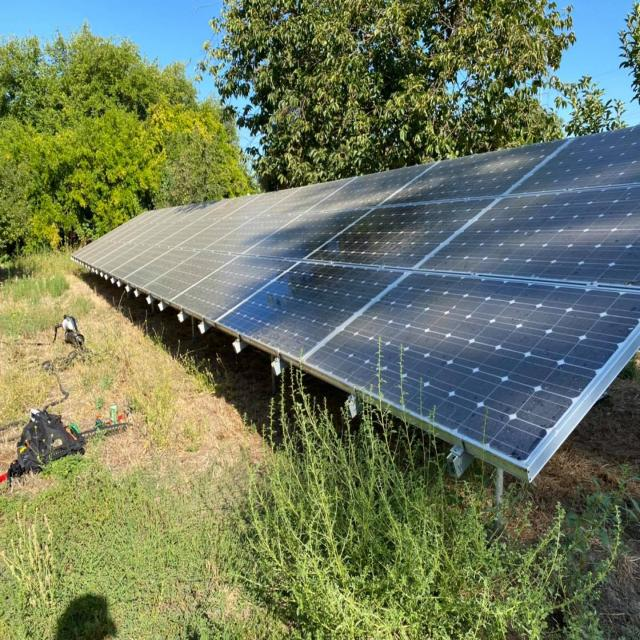dust-solar-panel: (73, 123, 640, 474)
